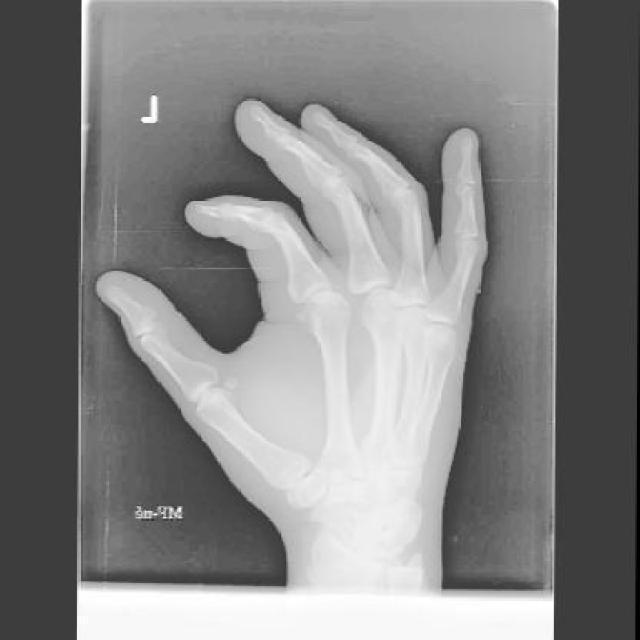Fracture: (337, 463, 376, 505)
